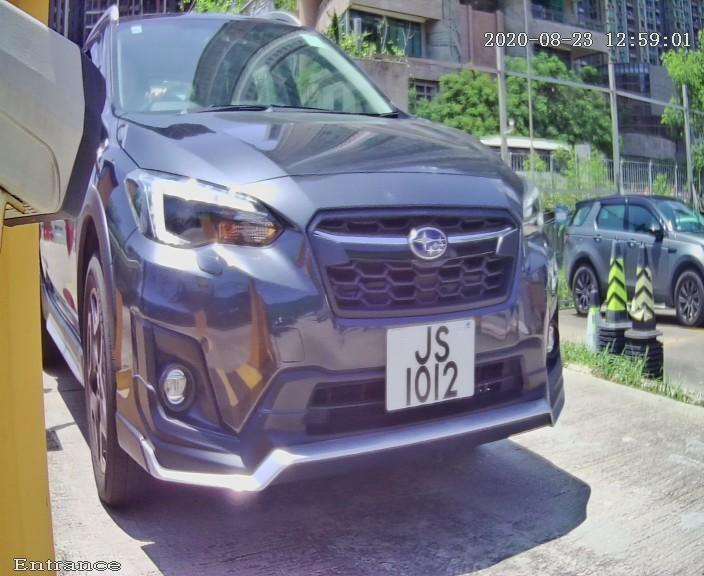Car: (19, 1, 607, 551)
License Plate: (378, 307, 488, 420)
